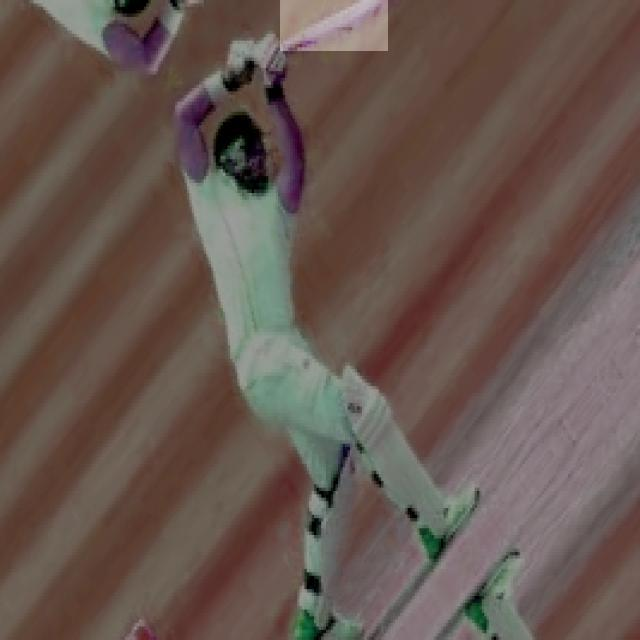bat: (282, 0, 388, 49)
